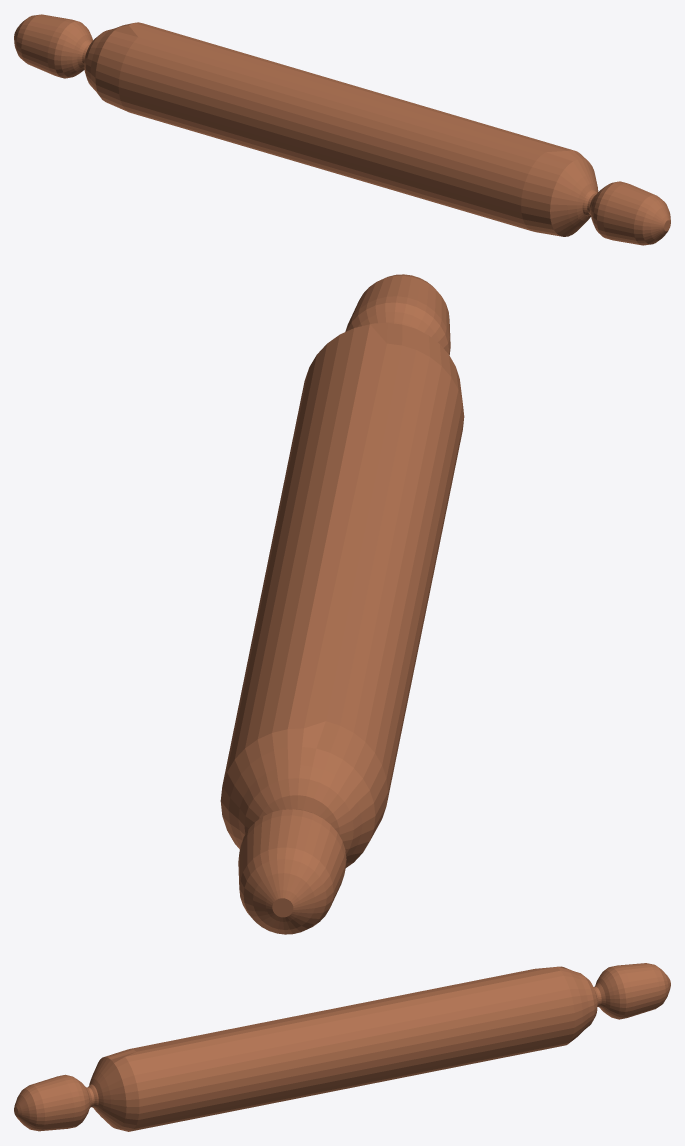
File: rodillo.fbx
The picture shows the model from 3 angles, top to bottom: view 1: azimuth 30°, elevation 25°; view 2: azimuth 150°, elevation 25°; view 3: azimuth 270°, elevation 25°; orthographic projection. The views are drawn at different scales.
Visible parts, largest first — view 1: rodillo; view 2: rodillo; view 3: rodillo.
Boxes of the visible parts, x1,y1,x2,y2 form: rodillo: [14, 14, 670, 245]; rodillo: [220, 274, 464, 934]; rodillo: [14, 963, 670, 1131].
Size of the model in its own units: 125 by 15.91 by 63.22.
